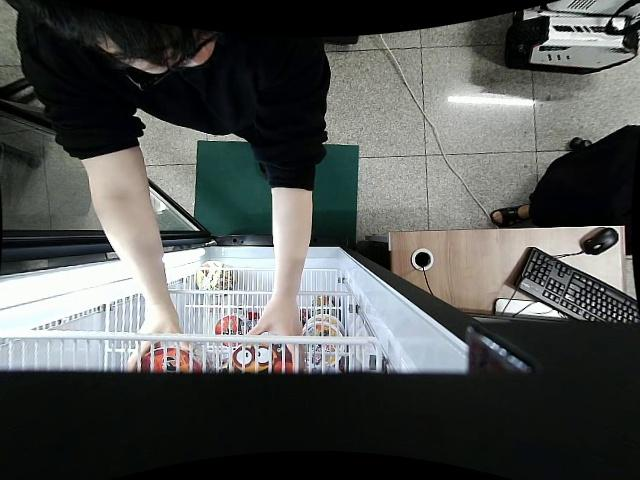00_hand: (246, 295, 307, 374), (125, 307, 195, 373)
05_nuguri_L: (230, 339, 302, 377), (139, 339, 205, 375)
